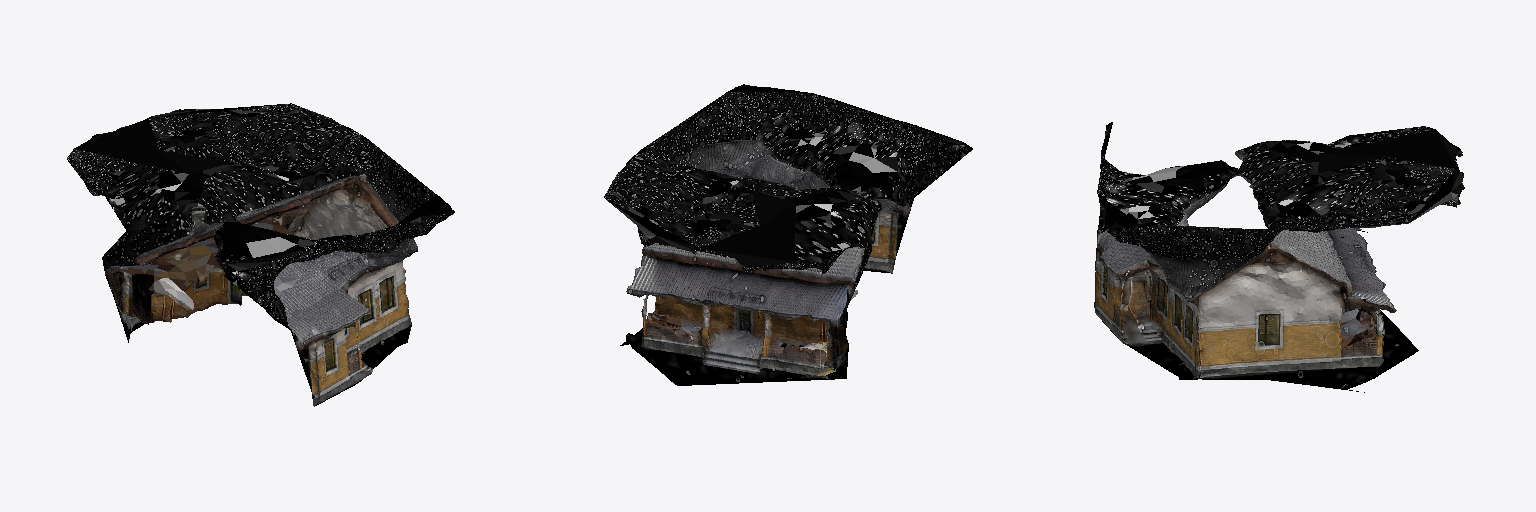
3 renders of one model, left to right at view 1: azimuth 30°, elevation 25°; view 2: azimuth 150°, elevation 25°; view 3: azimuth 270°, elevation 25°, orthographic.
Bounding box in the file's own units: 12.44 × 8.59 × 16.84.
1 materials, 1 textured.